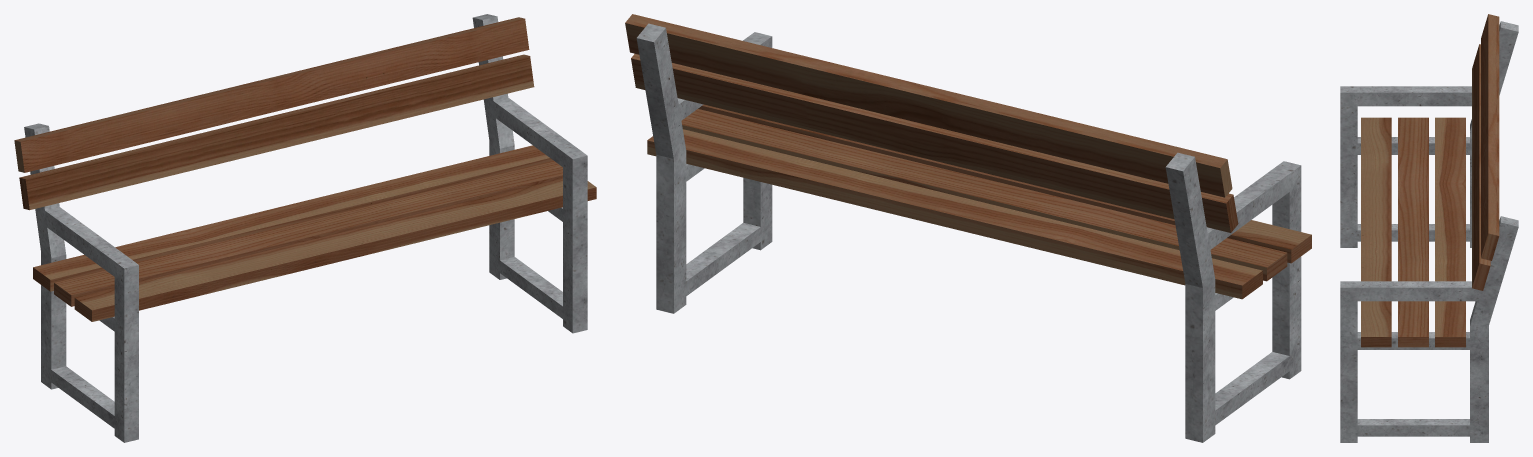
File: bench+27.obj
3 renders of one model, left to right at view 1: azimuth 30°, elevation 25°; view 2: azimuth 150°, elevation 25°; view 3: azimuth 270°, elevation 25°, orthographic. The views are drawn at different scales.
Visible parts, largest first — view 1: bench_27; view 2: bench_27; view 3: bench_27.
Boxes of the visible parts, x1,y1,x2,y2 form: bench_27: (14, 14, 596, 442); bench_27: (625, 14, 1311, 442); bench_27: (1340, 14, 1518, 442).
Size of the model in its own units: 1.8 by 0.8436 by 0.6193.
